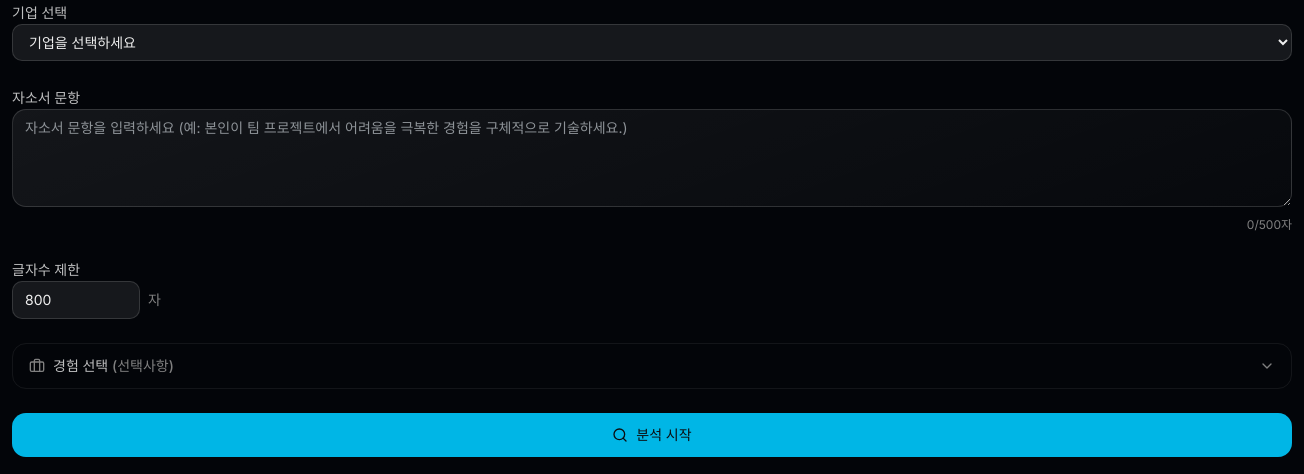
Test: QuestionInputForm › displays validation error for short question text
// 기업 선택 (native select는 selectOptions 사용)
Step 1. Select "삼성전자 - 소프트웨어 개발직" in the dropdown → (652, 42), box [12, 24, 1292, 61]
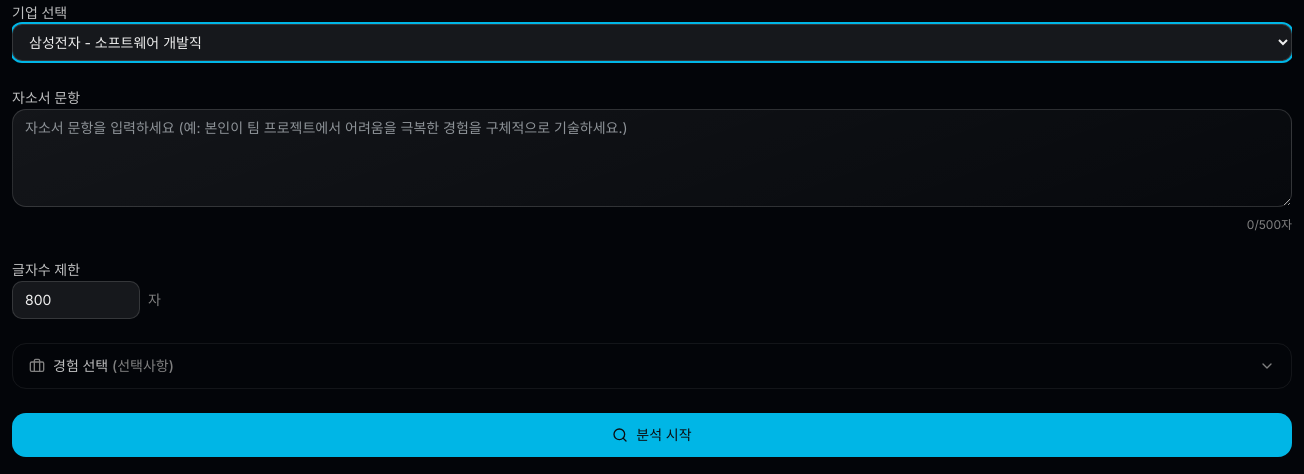
Step 2. Type "짧은 문항" into the text box with placeholder "자소서 문항을 입력하세요 (예: 본인이 팀 프로젝트에서 어려움을 극복한 경험을 구체적으로 기술하세요.)" → (652, 158), box [12, 109, 1292, 207]
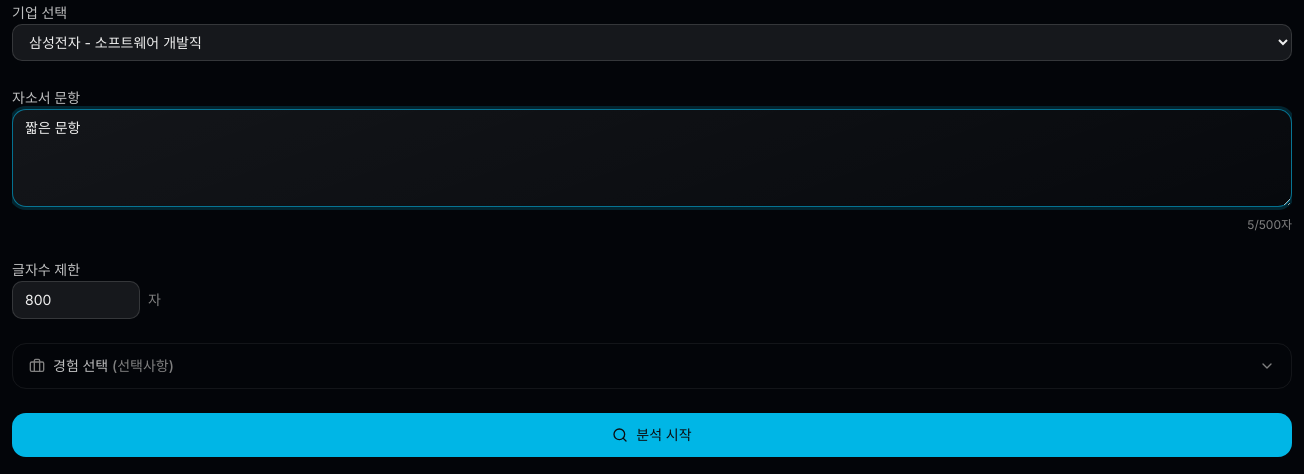
Step 3. Click the button "분석 시작" → click(652, 435), box [12, 413, 1292, 457]
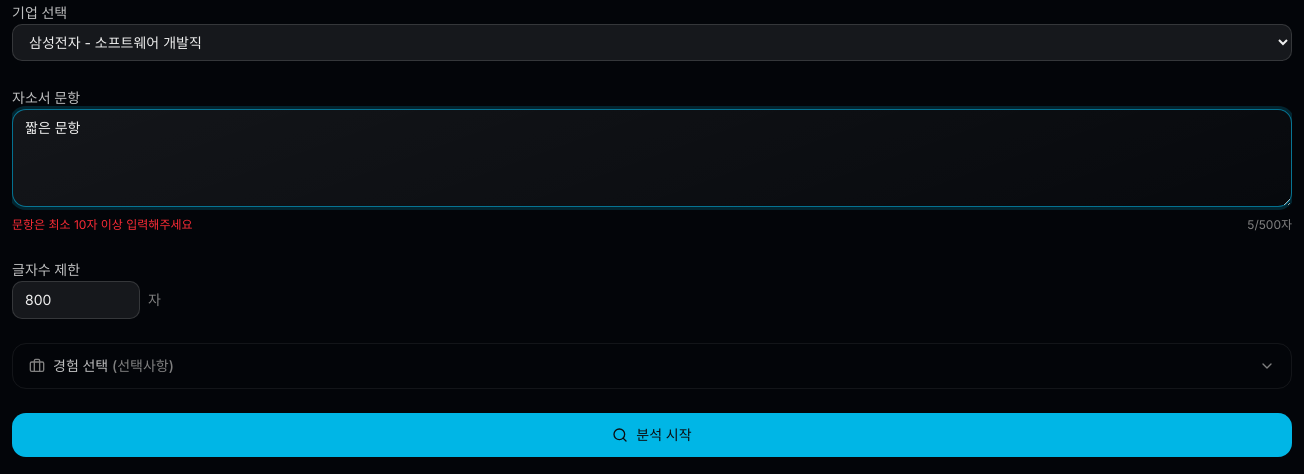
Result: the text "문항은 최소 10자 이상 입력해주세요" is shown at [12, 217, 192, 233]
